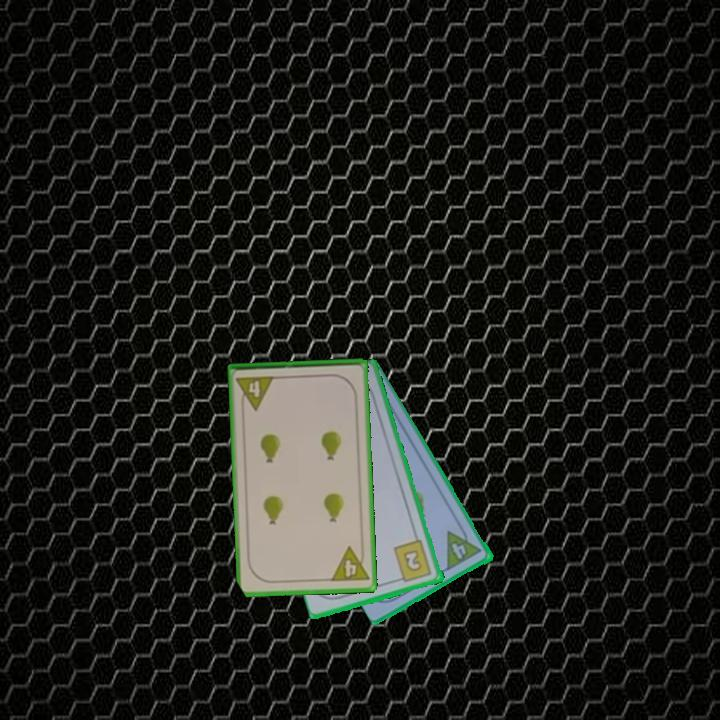2b: (390, 537, 435, 585)
4p: (443, 521, 485, 573), (327, 543, 372, 585), (233, 372, 277, 413)
